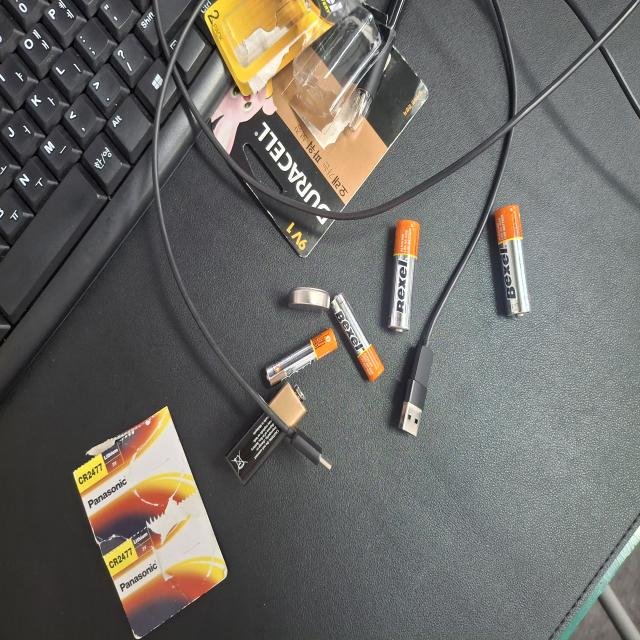9V: (286, 446, 364, 556)
AA: (153, 145, 243, 198), (165, 293, 251, 338)
AAA: (217, 342, 287, 412), (247, 405, 289, 500)
COIN: (216, 410, 233, 468)
